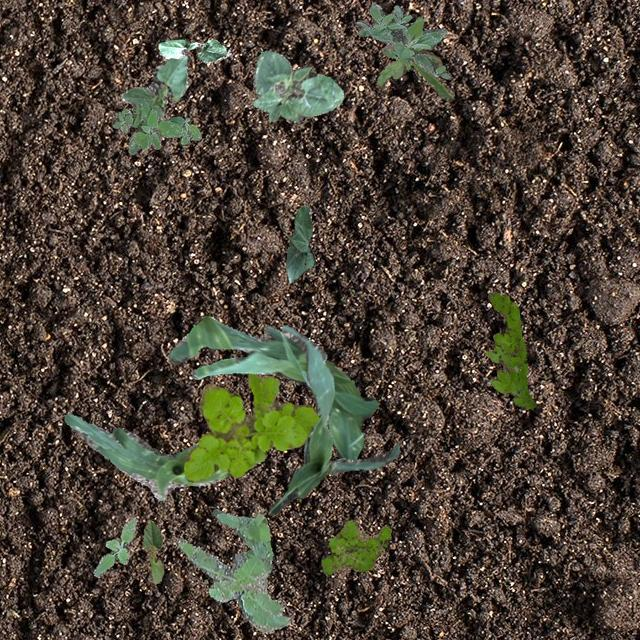crop: (168, 314, 378, 460), (268, 324, 400, 514), (65, 412, 228, 498), (252, 49, 342, 122), (120, 54, 190, 120), (284, 204, 314, 282), (156, 36, 230, 61), (140, 518, 162, 582)
weed: (182, 372, 318, 480), (176, 508, 290, 632), (356, 2, 450, 78), (484, 290, 534, 408), (111, 98, 200, 154), (376, 46, 454, 100), (321, 520, 388, 574), (92, 518, 136, 576)
